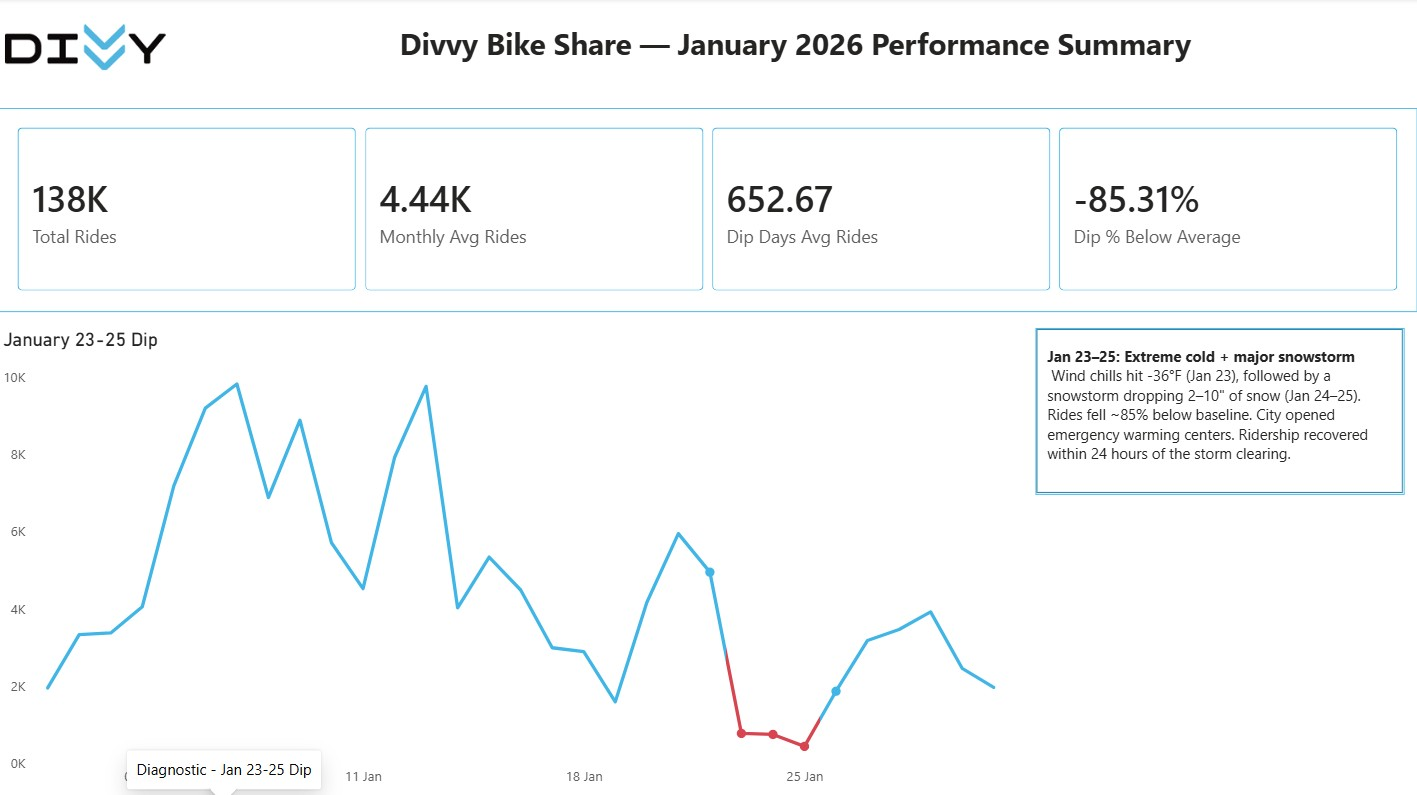

The page's visual inventory and layout, read from the dashboard file:
{"tool":"powerbi","page":{"name":"Diagnostic - Jan 23-25 Dip","canvas":[1280,720],"ordinal":1},"visuals":[{"type":"cardVisual","fields":{"Data":["Jan2026_Clean.Total Rides","Jan2026_Clean.Monthly Avg Rides","Jan2026_Clean.Dip Days Avg Rides","Jan2026_Clean.Dip % Below Average"]},"box":[0,98.8,1280,183.8],"z":0},{"type":"lineChart","title":"January 23-25 Dip","fields":{"Category":["Jan2026_Clean.RideDate"],"Y":["Jan2026_Clean.Total Rides"]},"box":[0,297.5,920,422.5],"z":1000},{"type":"image","box":[0,0,157.6,88.5],"z":2000},{"type":"textbox","box":[157.6,0,1122.1,88.7],"z":3000},{"type":"textbox","box":[941.2,308.8,319.7,127.6],"z":4000},{"type":"shape","box":[935,297.5,332.5,150],"z":5000}]}

Visuals, with their boxes in screenshot pixels (x1, y1, x2, y2), scaled from the page's 1280x720 canvas onto the 1417x795 screenshot:
cardVisual - Jan2026_Clean.Total Rides x Jan2026_Clean.Monthly Avg Rides: region(0, 109, 1416, 312)
"January 23-25 Dip" lineChart: region(0, 328, 1018, 794)
image: region(0, 0, 174, 98)
textbox: region(174, 0, 1416, 98)
textbox: region(1042, 341, 1396, 482)
shape: region(1035, 328, 1403, 494)
